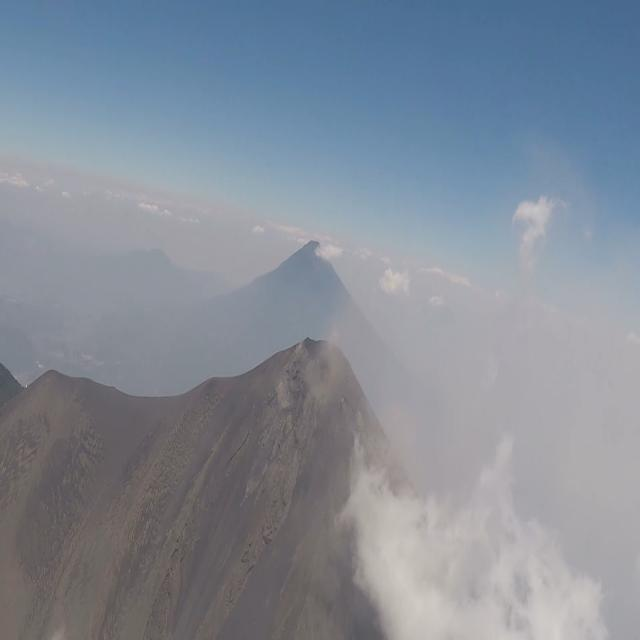Summit: (186, 306, 446, 534)
